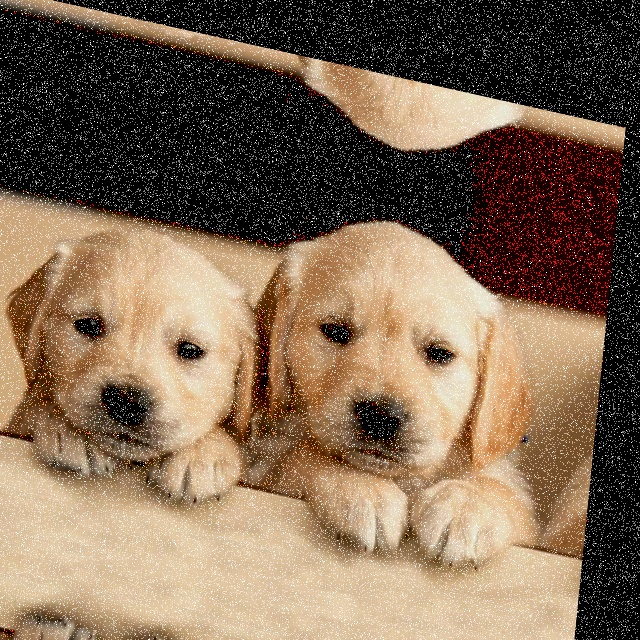dog: (246, 208, 562, 611), (0, 163, 280, 560), (289, 54, 577, 174), (45, 0, 296, 101), (0, 554, 240, 640)
